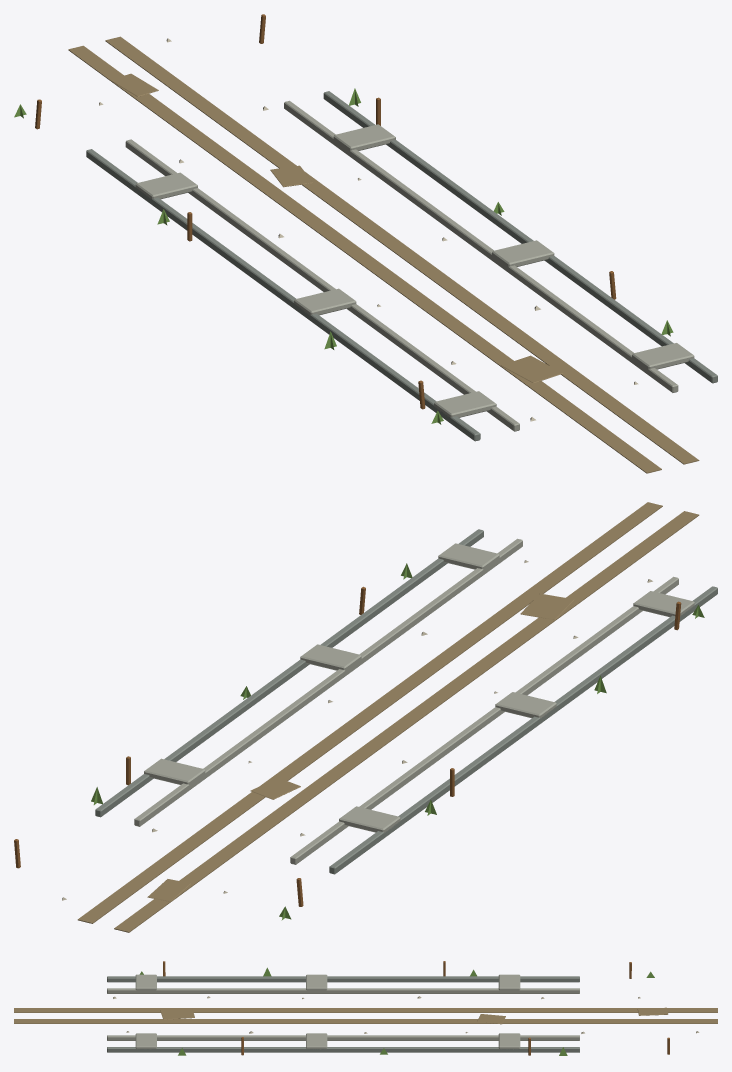
Rendered from country_road_details.glb.
3 renders of one model, top to bottom at view 1: azimuth 30°, elevation 25°; view 2: azimuth 150°, elevation 25°; view 3: azimuth 270°, elevation 25°, orthographic. The views are drawn at different scales.
Parts seen in each view (by area): view 1: WheelTrackRight, WheelTrackLeft, ChannelInner_R, ChannelOuter_L, ChannelOuter_R, ChannelInner_L, CrossingSlab_R_1, CrossingSlab_R_0, CrossingSlab_L_0, CrossingSlab_L_1, CrossingSlab_R_2, CrossingSlab_L_2 (+2 smaller); view 2: WheelTrackRight, WheelTrackLeft, ChannelInner_R, ChannelOuter_L, ChannelInner_L, ChannelOuter_R, CrossingSlab_R_1, CrossingSlab_R_0, CrossingSlab_R_2, CrossingSlab_L_2, CrossingSlab_L_1, CrossingSlab_L_0 (+2 smaller); view 3: WheelTrackRight, WheelTrackLeft, ChannelOuter_L, ChannelInner_L, ChannelOuter_R, ChannelInner_R, CrossingSlab_L_2, CrossingSlab_L_0, CrossingSlab_L_1, CrossingSlab_R_2, RoadPatch_0, CrossingSlab_R_0 (+4 smaller).
Boxes of the visible parts, x1,y1,x2,y2 form: WheelTrackRight: (105,36,699,464); WheelTrackLeft: (68,45,661,473); ChannelInner_R: (284,100,678,392); ChannelOuter_L: (86,149,480,441); ChannelOuter_R: (323,91,717,383); ChannelInner_L: (125,139,519,431); CrossingSlab_R_1: (492,240,554,266); CrossingSlab_R_0: (632,343,694,369); CrossingSlab_L_0: (434,391,496,417); CrossingSlab_L_1: (294,288,356,315); CrossingSlab_R_2: (333,124,395,151); CrossingSlab_L_2: (135,172,197,199); WheelTrackRight: (77,502,662,923); WheelTrackLeft: (114,511,699,932); ChannelInner_R: (134,538,522,826); ChannelOuter_L: (329,586,717,874); ChannelInner_L: (290,576,678,864); ChannelOuter_R: (95,529,483,817); CrossingSlab_R_1: (300,644,361,670); CrossingSlab_R_0: (438,543,499,569); CrossingSlab_R_2: (144,758,205,785); CrossingSlab_L_2: (339,806,400,833); CrossingSlab_L_1: (495,692,556,718); CrossingSlab_L_0: (633,591,694,617); WheelTrackRight: (14,1019,717,1023); WheelTrackLeft: (14,1008,717,1012); ChannelOuter_L: (107,976,579,982); ChannelInner_L: (107,988,579,993); ChannelOuter_R: (107,1047,579,1052); ChannelInner_R: (107,1035,579,1040); CrossingSlab_L_2: (498,974,520,990); CrossingSlab_L_0: (135,974,156,990); CrossingSlab_L_1: (306,974,327,990); CrossingSlab_R_2: (498,1033,520,1049); RoadPatch_0: (160,1008,194,1019); CrossingSlab_R_0: (135,1033,156,1049).
Bounding box in the file's own units: 8.78 × 0.8433 × 31.4.
